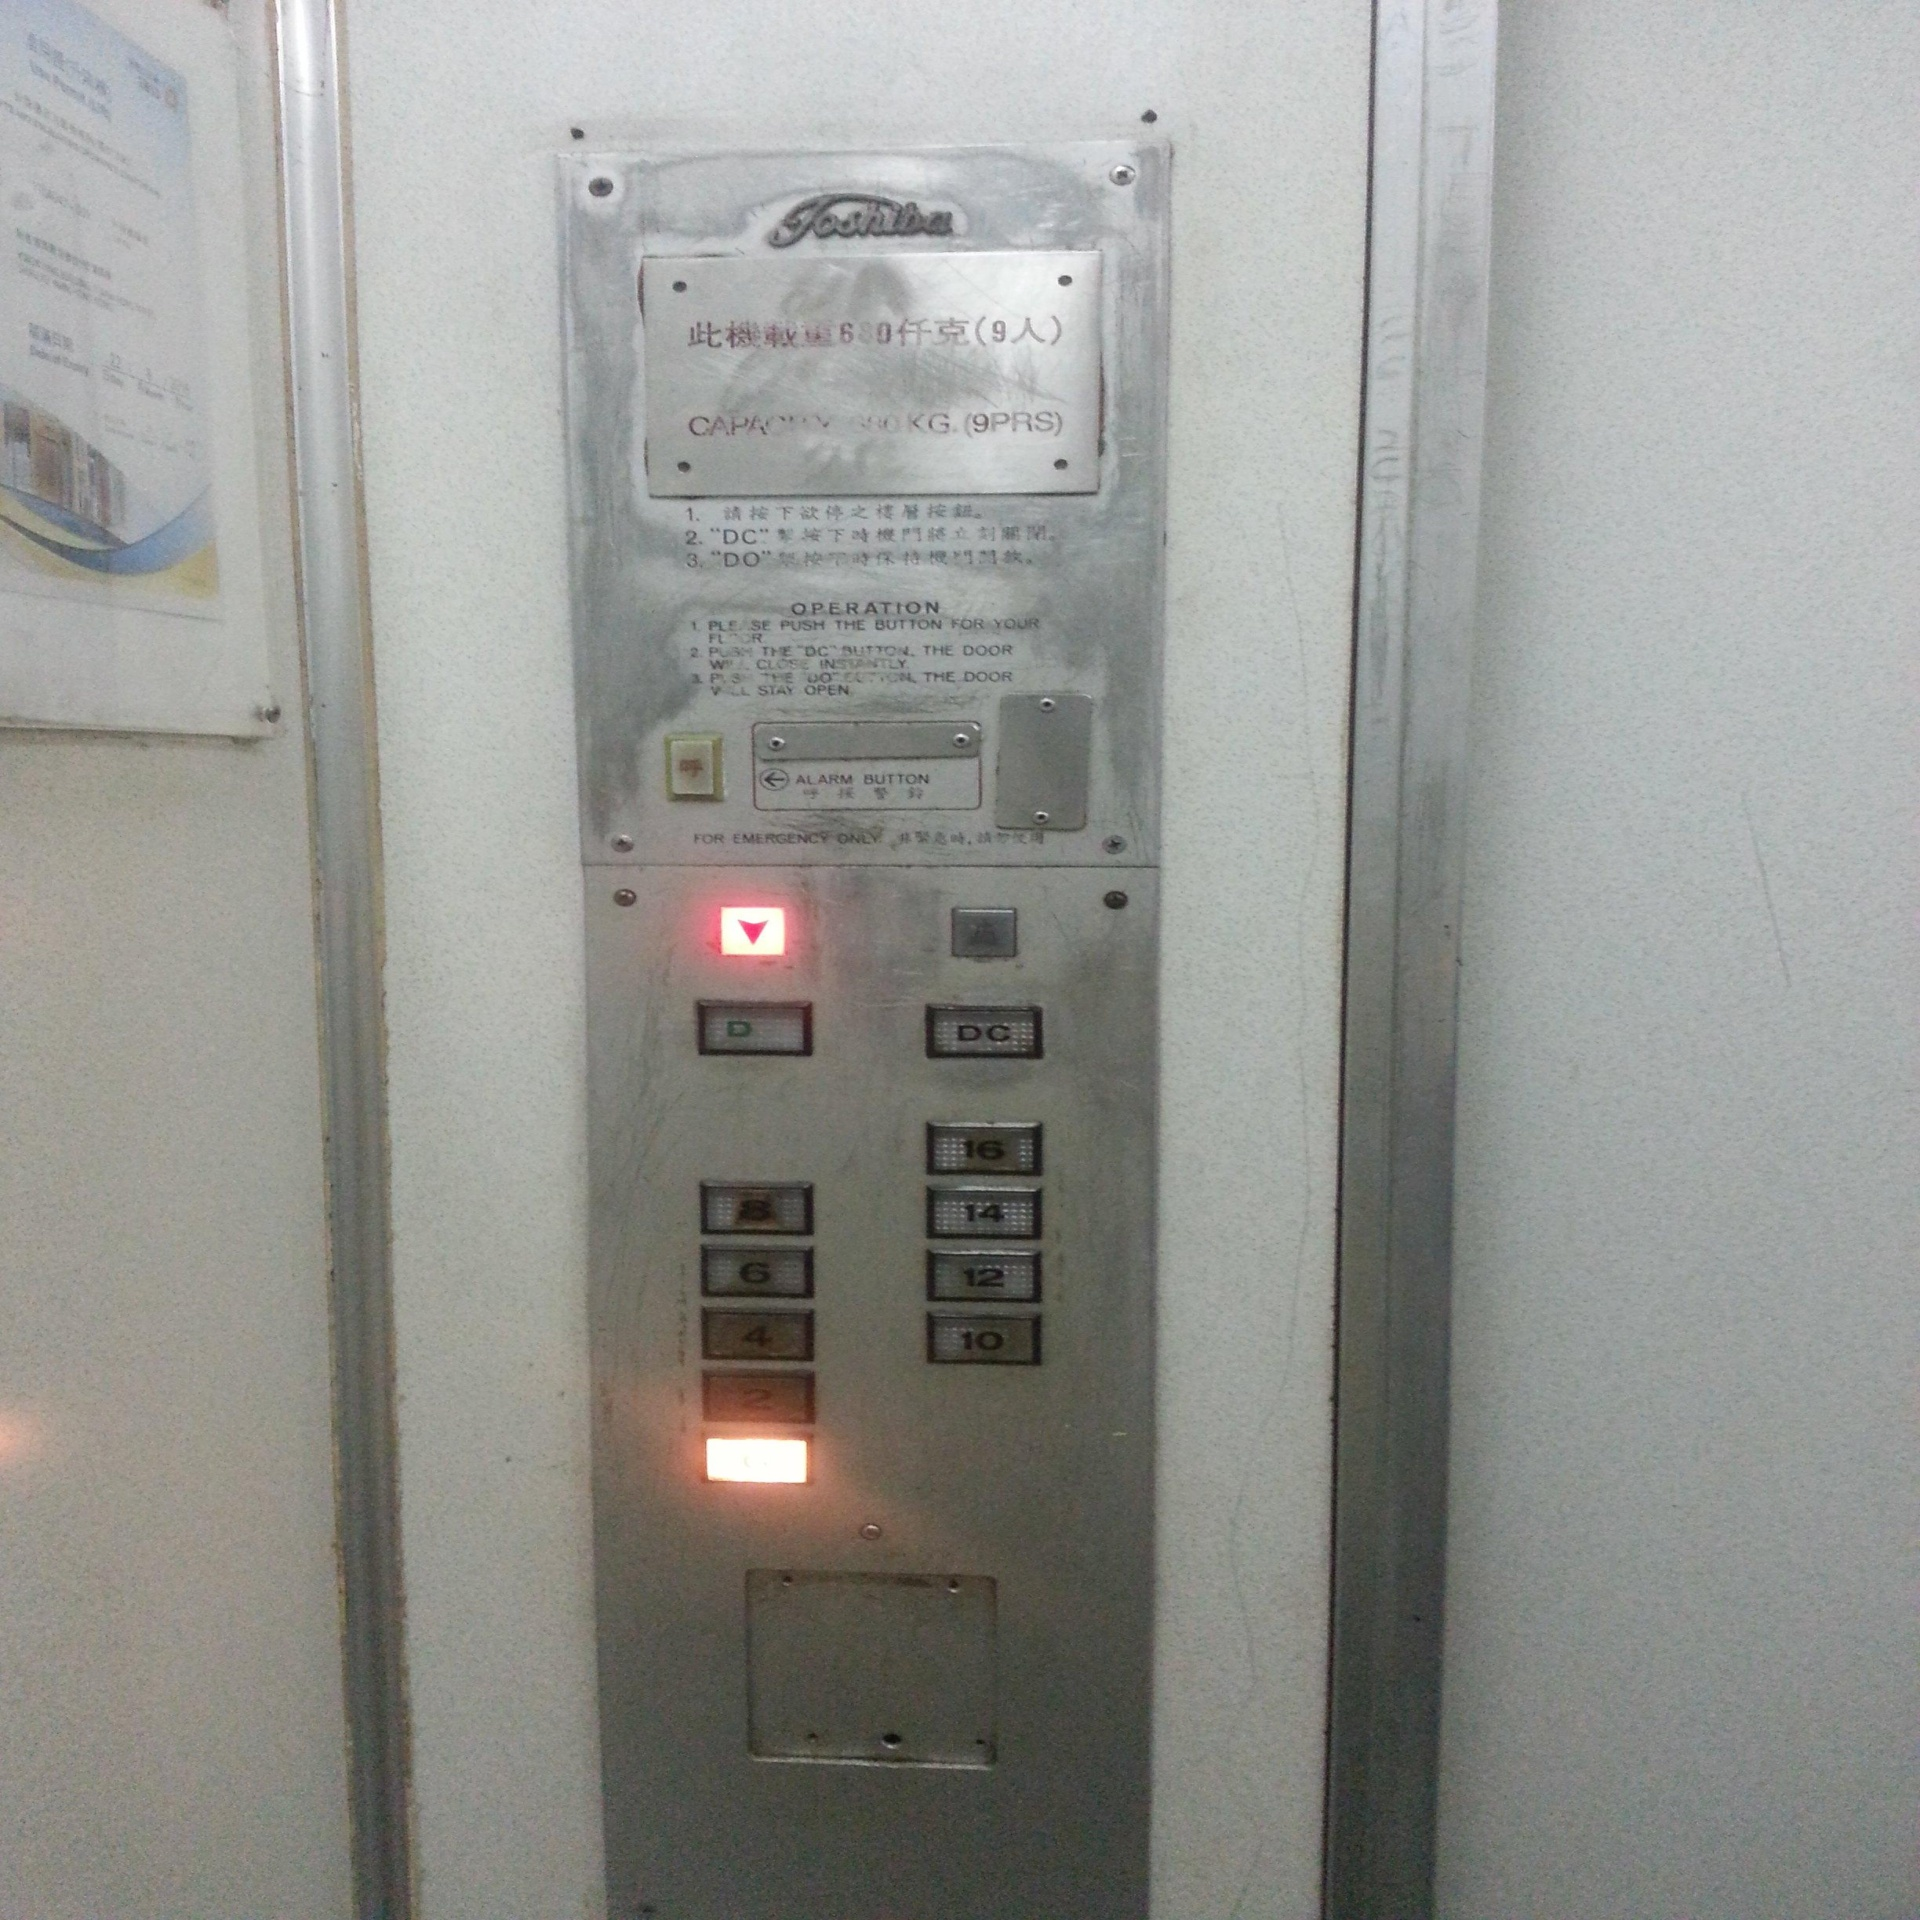10: (925, 1310, 1043, 1370)
12: (925, 1248, 1043, 1305)
14: (925, 1183, 1043, 1241)
16: (925, 1118, 1043, 1180)
2: (700, 1370, 816, 1426)
4: (700, 1306, 814, 1363)
6: (700, 1245, 818, 1299)
8: (696, 1180, 818, 1238)
D: (693, 999, 818, 1060)
DC: (921, 999, 1046, 1062)
blur: (946, 904, 1023, 962)
down: (716, 902, 789, 960)
empty: (702, 1433, 812, 1486)
text: (665, 731, 723, 804)
